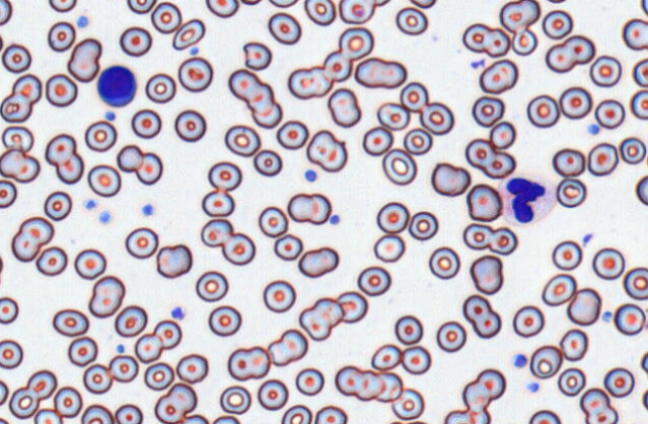GRAN: (498, 171, 560, 226)
LYM: (95, 62, 138, 109)
PLT: (510, 351, 530, 370), (170, 305, 189, 320), (82, 197, 99, 211), (96, 210, 113, 224), (524, 380, 541, 394), (304, 167, 318, 183), (140, 202, 154, 217), (76, 13, 89, 29), (113, 342, 127, 356), (103, 109, 118, 122), (327, 214, 340, 226), (602, 311, 614, 323), (588, 123, 600, 135), (189, 45, 201, 56), (469, 60, 480, 71)
RBC: (227, 68, 282, 128), (464, 138, 515, 179), (44, 133, 84, 184), (11, 216, 54, 262), (298, 297, 343, 340), (462, 368, 505, 411), (154, 382, 197, 423), (306, 129, 347, 172), (462, 294, 501, 338), (354, 56, 406, 88), (88, 275, 125, 318), (67, 37, 102, 82), (287, 65, 333, 99), (227, 345, 270, 381), (267, 328, 307, 366), (465, 183, 502, 222), (0, 147, 40, 183), (287, 192, 331, 224), (479, 58, 518, 94), (469, 254, 503, 295), (381, 147, 417, 185), (327, 87, 361, 127), (430, 162, 470, 196), (499, 0, 540, 33), (566, 287, 601, 325), (298, 246, 339, 278), (177, 56, 213, 92), (155, 243, 192, 278), (338, 26, 373, 60), (419, 101, 454, 135), (526, 94, 560, 128), (541, 273, 576, 306), (224, 124, 260, 156), (221, 232, 255, 265), (390, 387, 424, 420), (529, 344, 562, 378), (124, 226, 158, 259), (87, 164, 121, 197), (262, 279, 296, 312), (114, 304, 147, 337), (559, 86, 592, 119), (592, 247, 625, 280), (45, 73, 77, 107), (267, 12, 301, 44), (207, 160, 242, 191), (172, 18, 205, 50), (613, 302, 645, 335), (512, 304, 544, 337), (589, 54, 621, 87), (195, 270, 228, 302), (84, 120, 117, 152), (471, 95, 504, 127), (428, 246, 460, 279), (174, 109, 206, 142), (376, 201, 409, 233), (587, 142, 618, 176), (357, 265, 391, 296), (52, 308, 89, 336), (8, 386, 39, 419), (336, 290, 367, 323), (208, 305, 241, 336), (35, 245, 67, 276), (150, 1, 181, 33), (257, 378, 288, 410), (74, 248, 106, 279), (552, 147, 585, 177), (119, 26, 152, 56), (175, 353, 208, 383), (354, 370, 385, 401), (26, 369, 57, 400), (82, 363, 113, 394), (362, 125, 393, 156), (551, 239, 582, 270), (594, 98, 625, 129), (145, 72, 176, 103), (563, 34, 595, 64), (545, 43, 577, 73), (541, 9, 573, 39), (603, 367, 635, 397), (258, 205, 288, 237), (436, 320, 466, 352), (276, 119, 308, 149), (322, 49, 351, 82), (200, 218, 233, 247), (201, 188, 234, 217), (53, 385, 82, 418), (559, 328, 588, 361), (376, 101, 409, 130), (134, 151, 162, 185), (0, 92, 31, 122), (12, 73, 42, 104), (555, 177, 586, 207), (219, 385, 251, 414), (395, 6, 427, 35), (373, 233, 405, 262), (1, 43, 31, 73), (408, 210, 438, 240), (67, 336, 97, 366), (131, 108, 161, 138), (134, 332, 163, 363), (400, 345, 431, 374), (399, 81, 428, 112), (43, 190, 72, 221), (394, 314, 423, 345), (143, 361, 174, 390), (338, 0, 375, 24), (334, 365, 362, 396), (375, 371, 403, 402), (462, 222, 493, 250), (370, 343, 401, 371), (47, 21, 75, 52), (1, 125, 33, 152), (623, 266, 648, 300), (488, 226, 517, 255), (557, 367, 586, 396), (295, 367, 324, 396), (482, 27, 510, 57), (153, 319, 181, 349), (108, 354, 138, 382), (622, 18, 648, 50), (488, 120, 516, 149), (253, 148, 282, 176), (403, 127, 432, 155), (273, 233, 303, 260), (304, 0, 336, 25), (116, 144, 143, 172), (619, 136, 646, 164), (444, 407, 489, 423), (0, 338, 23, 369), (511, 28, 537, 55), (80, 403, 114, 423), (205, 0, 239, 18), (585, 405, 618, 423), (314, 405, 347, 423), (281, 404, 312, 423), (114, 403, 143, 423), (630, 89, 648, 119), (0, 296, 18, 324), (0, 179, 17, 208), (632, 57, 648, 87), (528, 409, 561, 423), (33, 408, 63, 423), (126, 0, 156, 14), (635, 174, 648, 205), (48, 0, 76, 12), (0, 0, 12, 25), (212, 414, 240, 423), (268, 0, 298, 8), (182, 414, 208, 423), (408, 0, 436, 8), (0, 379, 8, 406), (386, 419, 429, 424), (640, 350, 648, 374), (641, 388, 648, 410), (641, 0, 648, 16), (240, 0, 262, 5), (373, 0, 391, 6), (544, 0, 568, 4), (645, 145, 648, 172), (645, 119, 648, 144), (0, 32, 3, 53), (0, 416, 9, 423)
Schistocyte: (243, 42, 273, 70)
